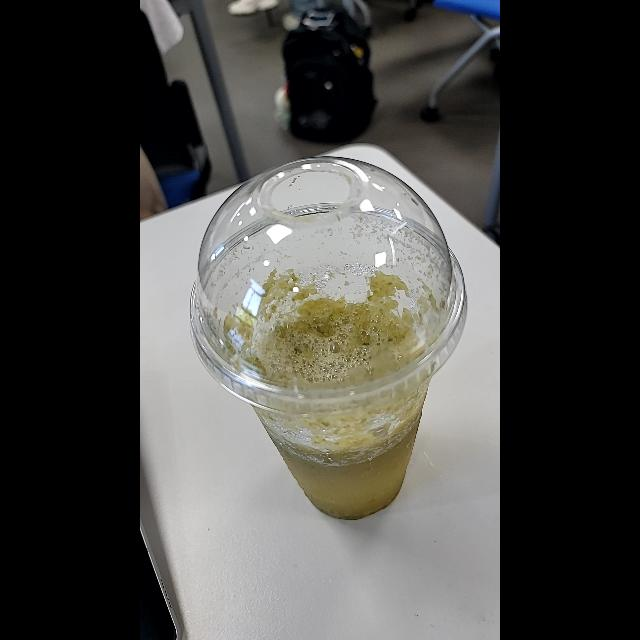plastic_cup: (191, 155, 463, 521)
